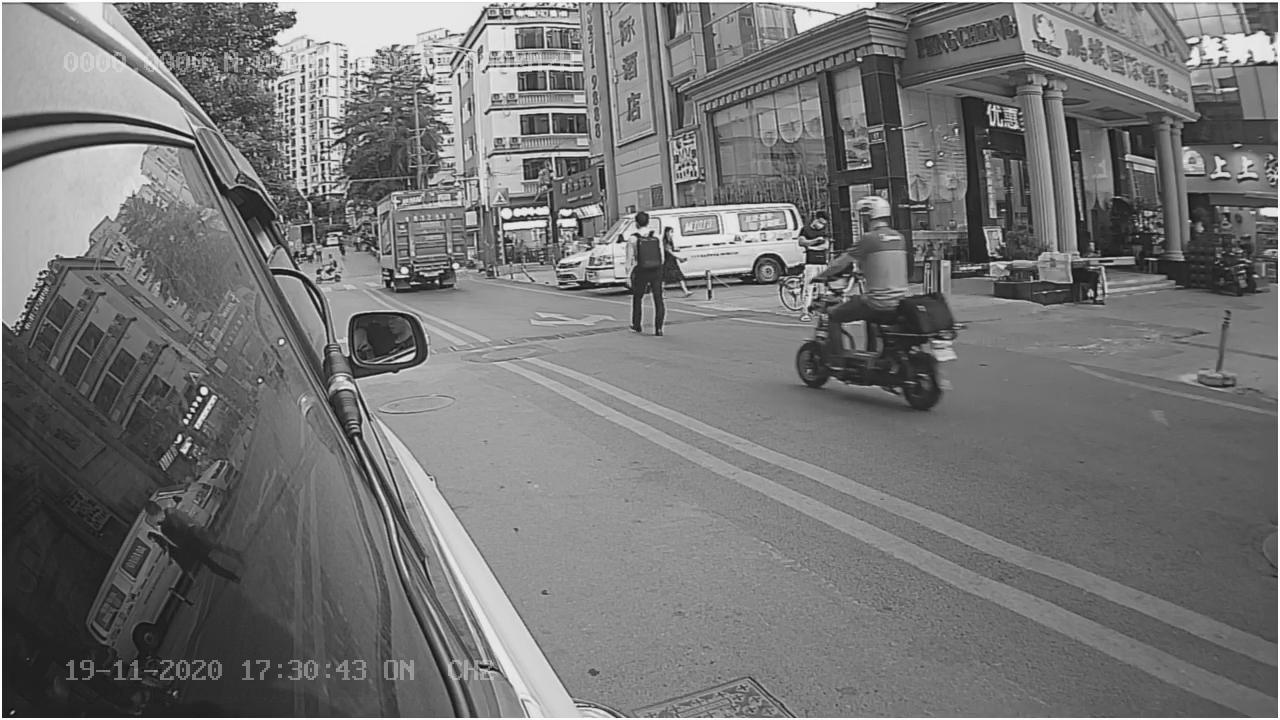person: (831, 192, 917, 286)
